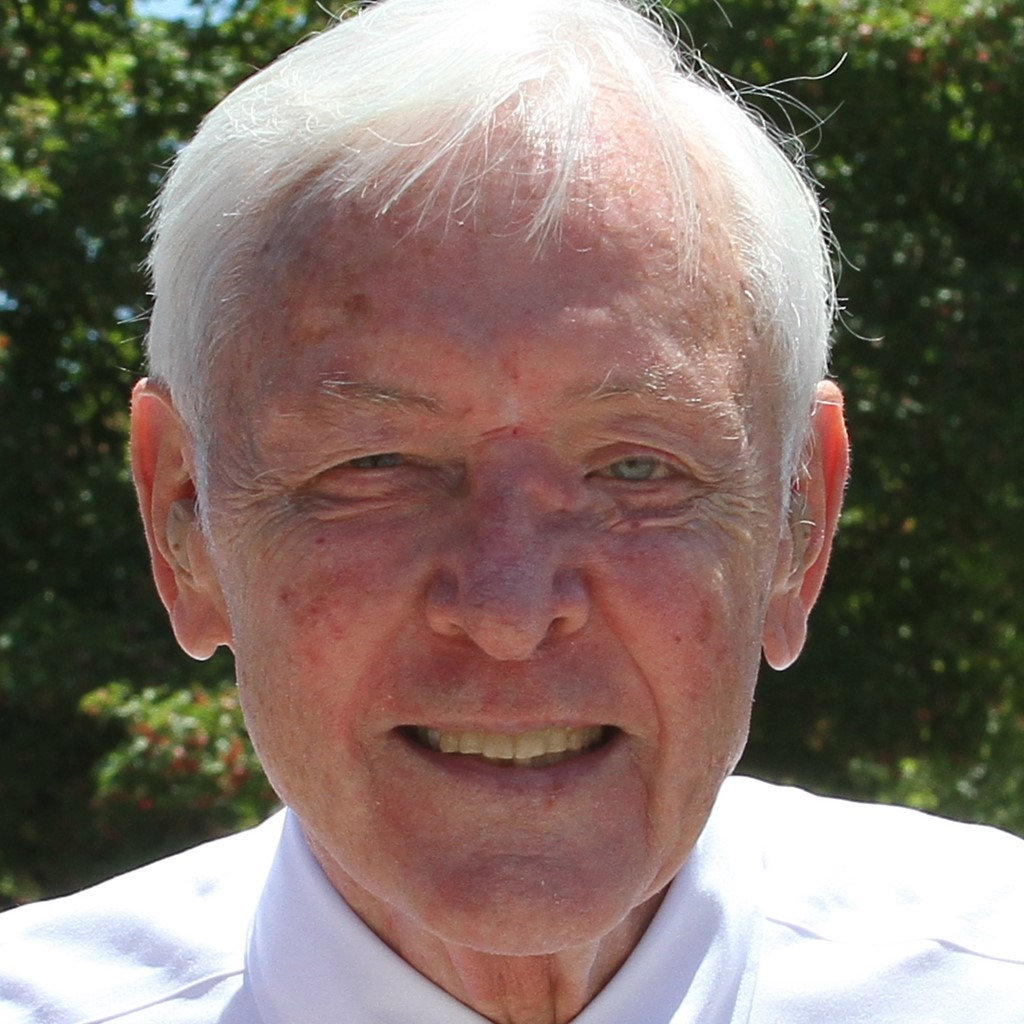sin_mascara: (133, 67, 808, 957)
